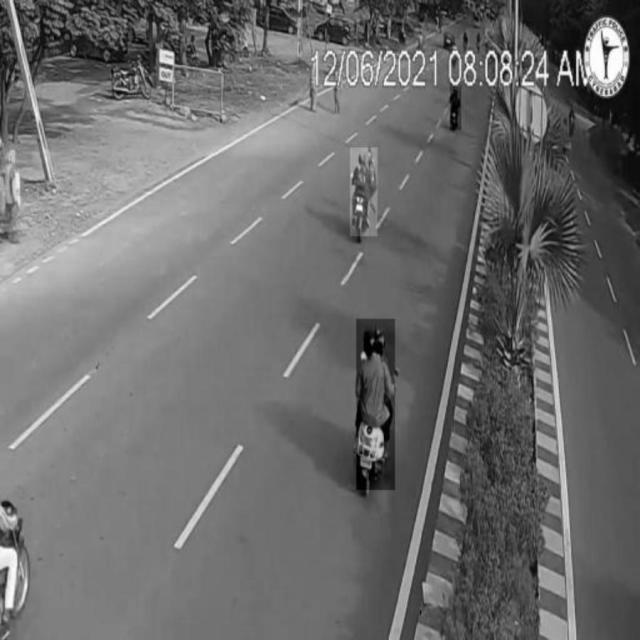accident: (351, 148, 378, 236)
vehicle: (356, 319, 394, 489), (451, 84, 461, 130)
